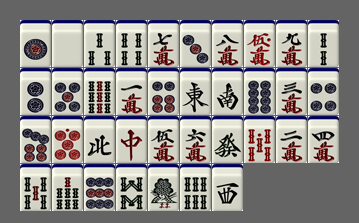0m: (244, 20, 275, 67)
0p: (52, 116, 83, 163)
0s: (244, 116, 275, 163)
1m: (116, 68, 147, 115)
1p: (20, 20, 51, 67)
1s: (148, 164, 179, 211)
1z: (180, 68, 211, 115)
2m: (276, 116, 307, 163)
2p: (20, 68, 51, 115)
2s: (308, 20, 339, 67)
2z: (212, 68, 243, 115)
3m: (276, 68, 307, 115)
3p: (180, 20, 211, 67)
3s: (84, 20, 115, 67)
3z: (212, 164, 243, 211)
4m: (308, 116, 339, 163)
4p: (308, 68, 339, 115)
4s: (116, 20, 147, 67)
4z: (84, 116, 115, 163)
5m: (148, 116, 179, 163)
5p: (52, 68, 83, 115)
5s: (20, 164, 51, 211)
5z: (52, 20, 83, 67)
6m: (180, 116, 211, 163)
6p: (148, 68, 179, 115)
6s: (180, 164, 211, 211)
6z: (212, 116, 243, 163)
7m: (148, 20, 179, 67)
7p: (20, 116, 51, 163)
7s: (52, 164, 83, 211)
7z: (116, 116, 147, 163)
8m: (212, 20, 243, 67)
8p: (244, 68, 275, 115)
8s: (116, 164, 147, 211)
9m: (276, 20, 307, 67)
9p: (84, 164, 115, 211)
9s: (84, 68, 115, 115)
